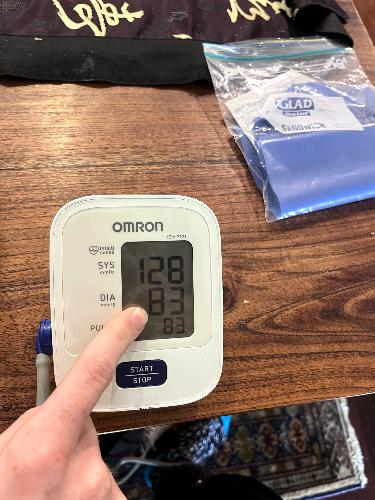bpm: (118, 239, 198, 343)
